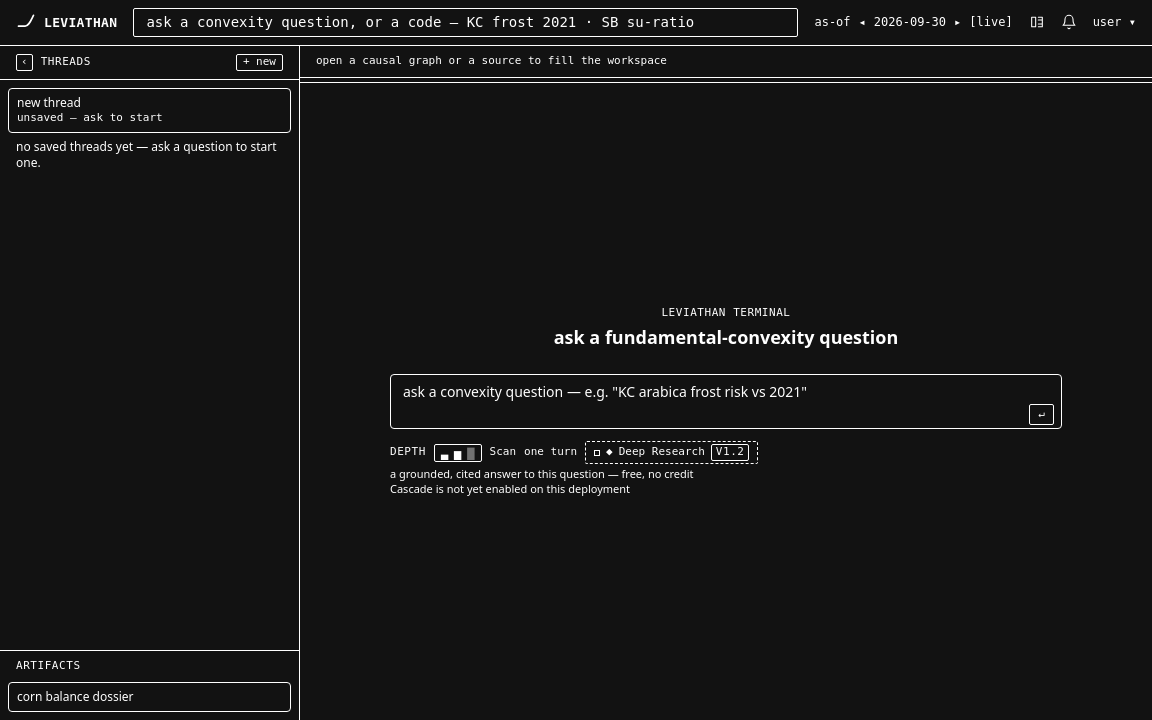
Shell: Deep Research submits a DOSSIER, not a turn (D-DR-3) › renders the staged progress surface from the SSE events, then lands an ARTIFACT TAB
This screenshot has width=1152, height=720.
Type "how tight is the corn balance?" into the text box with test id "composer-hero".
click(726, 401); type("how tight is the corn balance?")  # box [390, 374, 1062, 429]
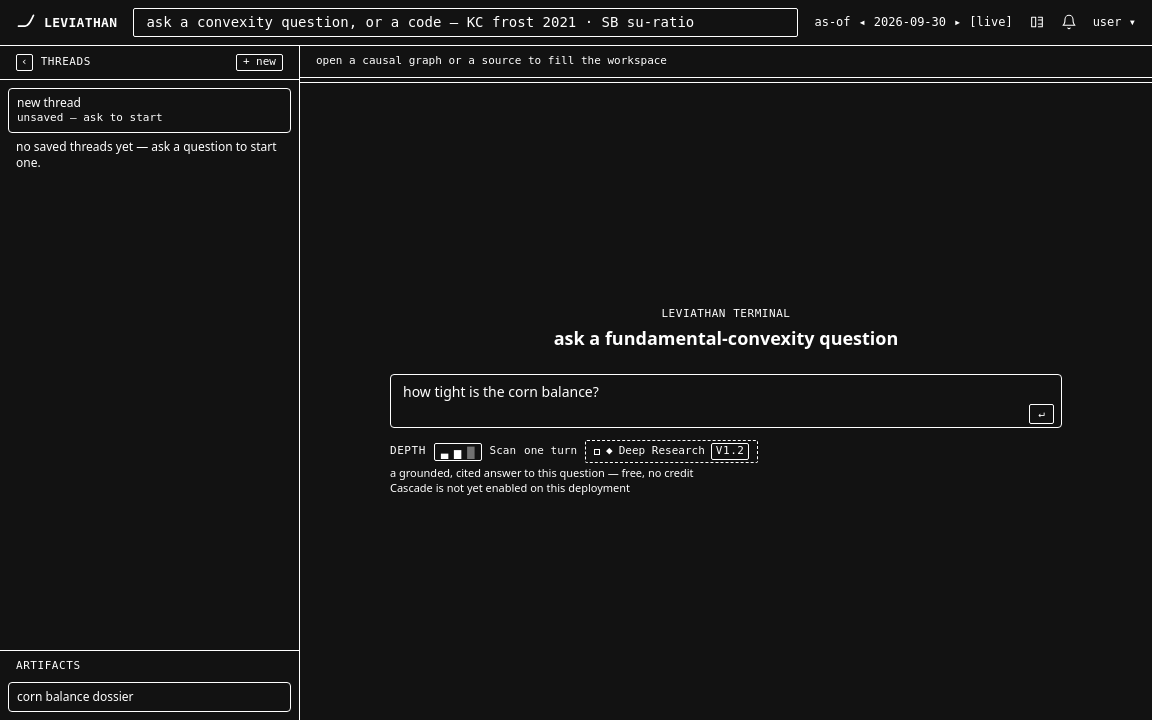
Press Enter
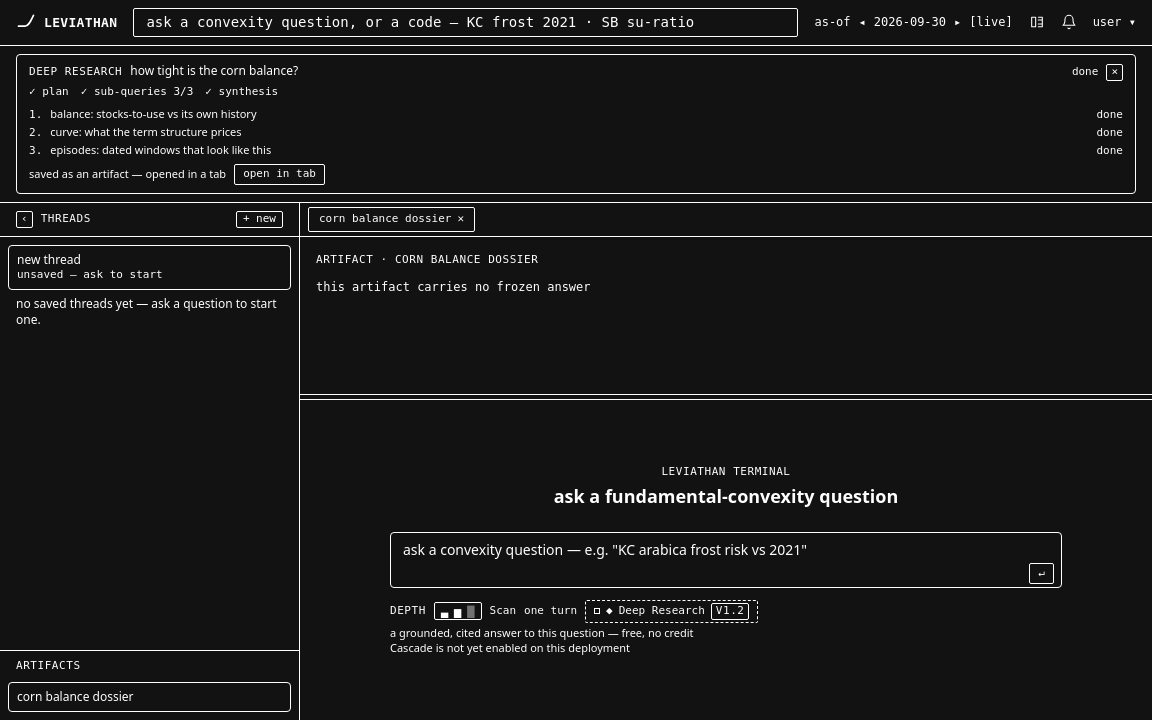
Expected: the element with test id "dossier-progress" is shown, [16, 54, 1136, 194]
Expected: the list item with test id "dossier-subquery-1" shows "stocks-to-use", [50, 106, 257, 121]
Expected: the list item with test id "dossier-subquery-3" shows "dated windows", [50, 142, 271, 157]
